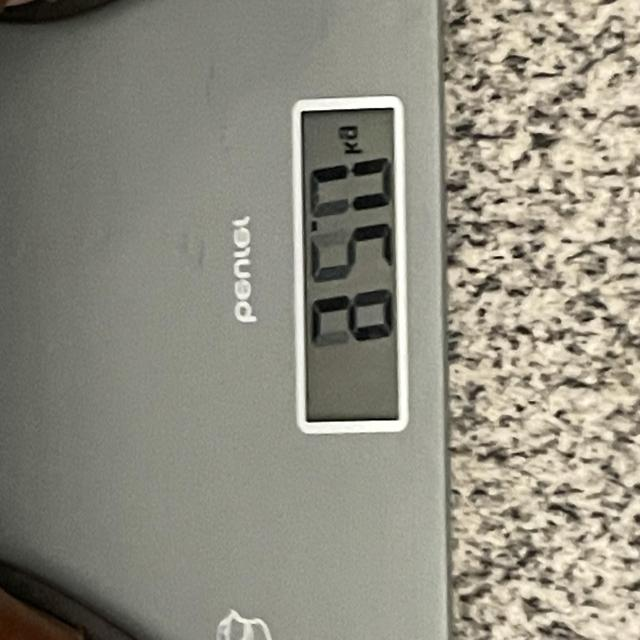ws: (291, 96, 412, 440)
